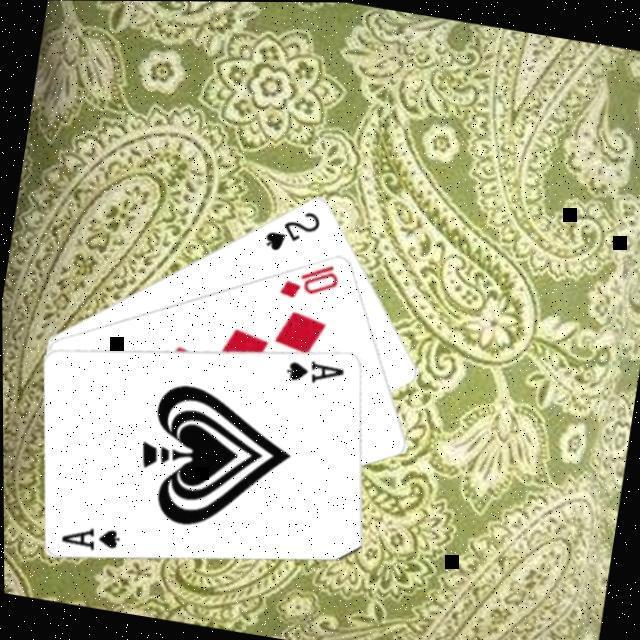10D: (276, 252, 344, 306)
2S: (261, 200, 326, 258)
AS: (57, 516, 126, 556), (282, 352, 350, 389)
